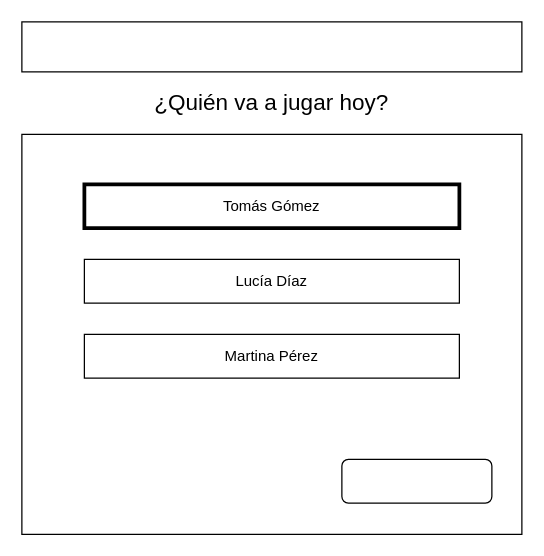
Some shapes in this 544 by 556 pixel diagram are drawn without their labels. The box of each missing label's shape, as (x1, y1, x2, y2) in pixels:
ENTRAR: (341, 458, 492, 503)
Ruta del Programador: (21, 21, 522, 72)
